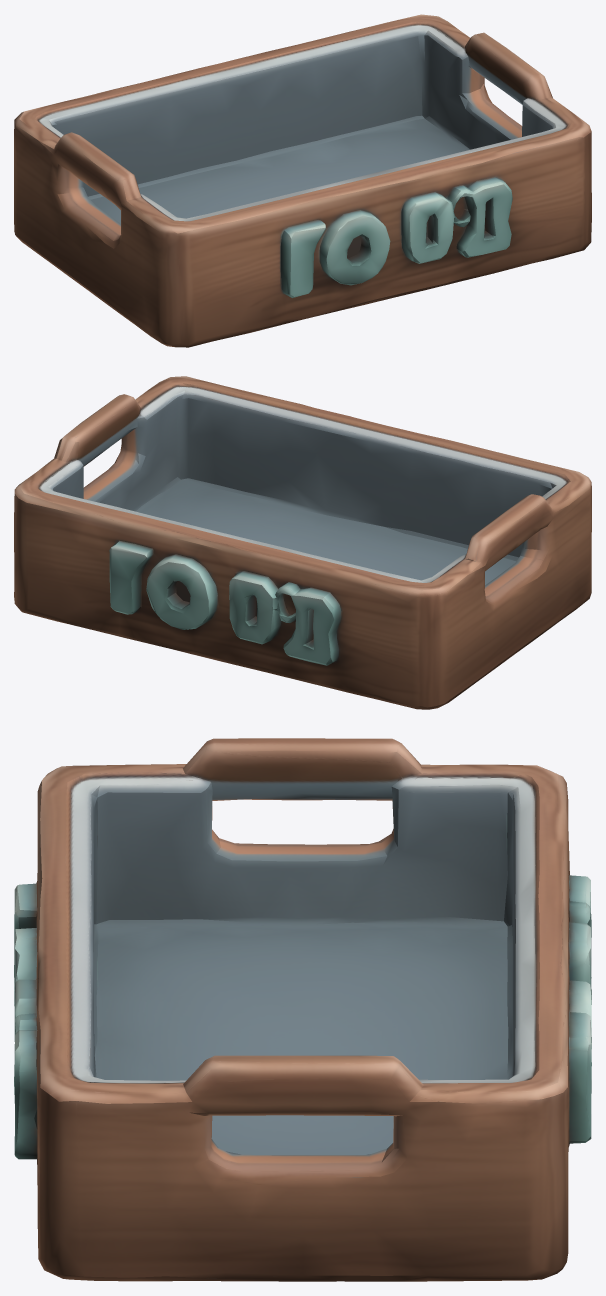
File: TodoTray.glb
The picture shows the model from 3 angles, top to bottom: view 1: azimuth 30°, elevation 25°; view 2: azimuth 150°, elevation 25°; view 3: azimuth 270°, elevation 25°; orthographic projection. The views are drawn at different scales.
Visible parts, largest first — view 1: geometry_0; view 2: geometry_0; view 3: geometry_0.
Part boxes in pixels (box(x1,y1,x2,y2)): geometry_0: box(14, 14, 591, 347); geometry_0: box(14, 376, 591, 709); geometry_0: box(14, 738, 591, 1281).
Size of the model in its own units: 0.22 by 0.0683 by 0.1603.
Materials: 1 (1 with a texture image).
